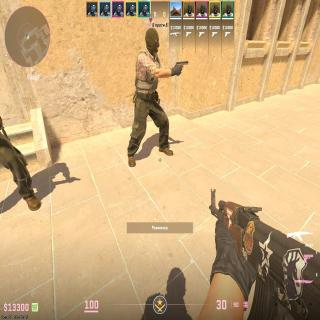T-Body: (134, 27, 168, 149)
T-Head: (145, 27, 159, 54)
